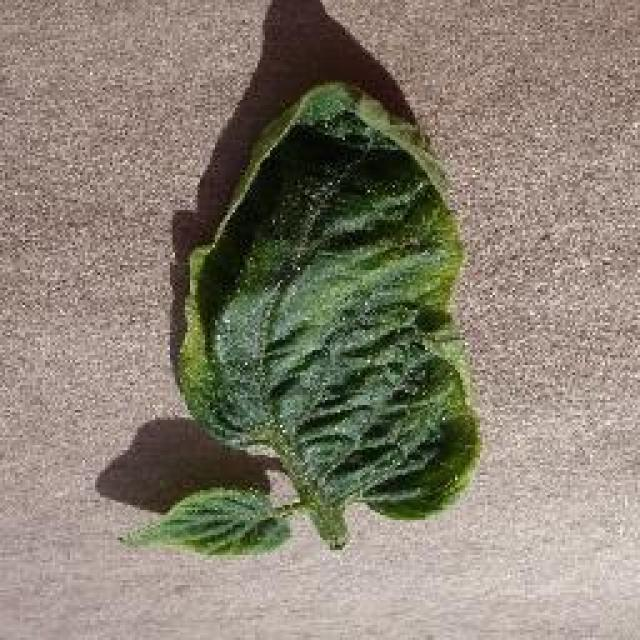Tomato yellow virus leaf: (180, 79, 490, 519), (114, 490, 296, 565)
